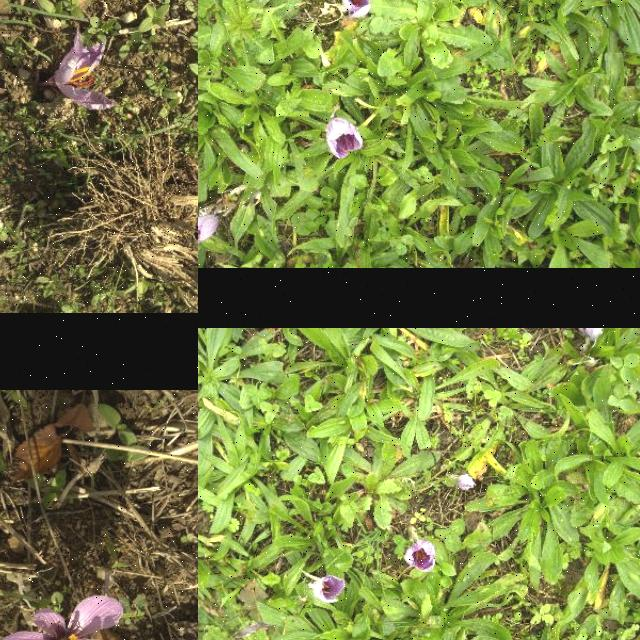flower: (0, 595, 127, 640), (52, 31, 116, 110), (325, 118, 363, 160), (405, 540, 437, 572), (314, 575, 346, 603), (198, 213, 220, 245), (342, 0, 372, 19), (456, 474, 476, 490)
